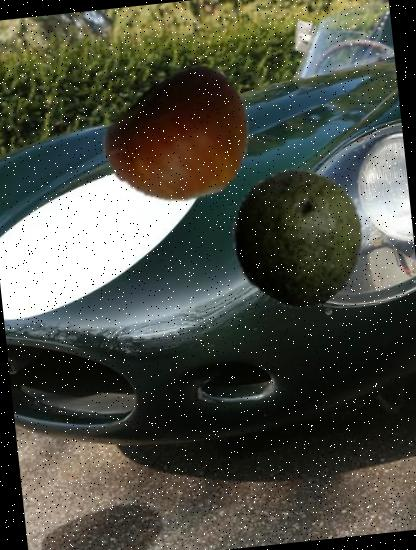Avocado: (222, 162, 372, 314)
Nut: (102, 58, 268, 223)
